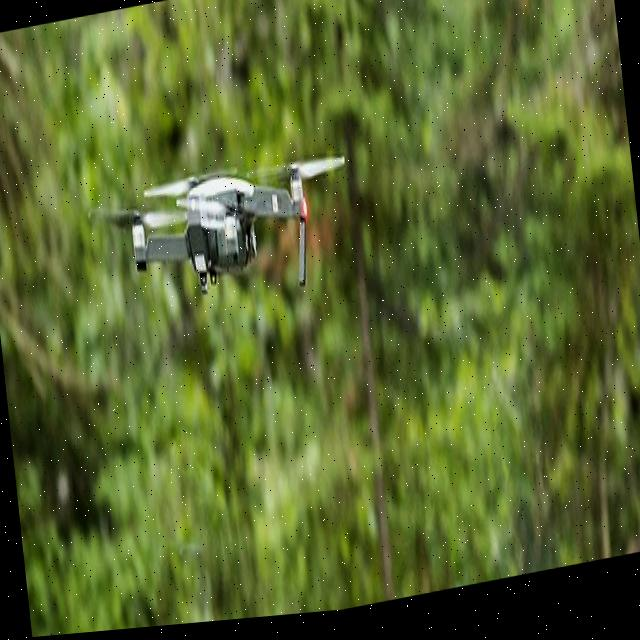drone: (66, 63, 379, 415)
